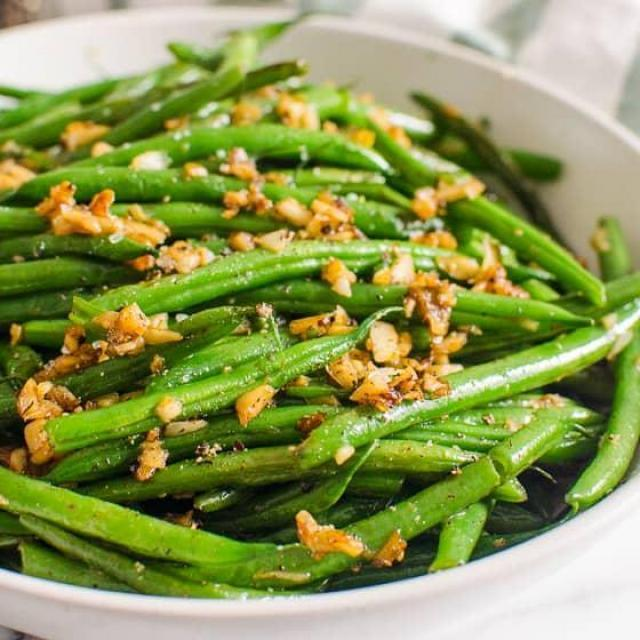Beans: (0, 21, 639, 596)
